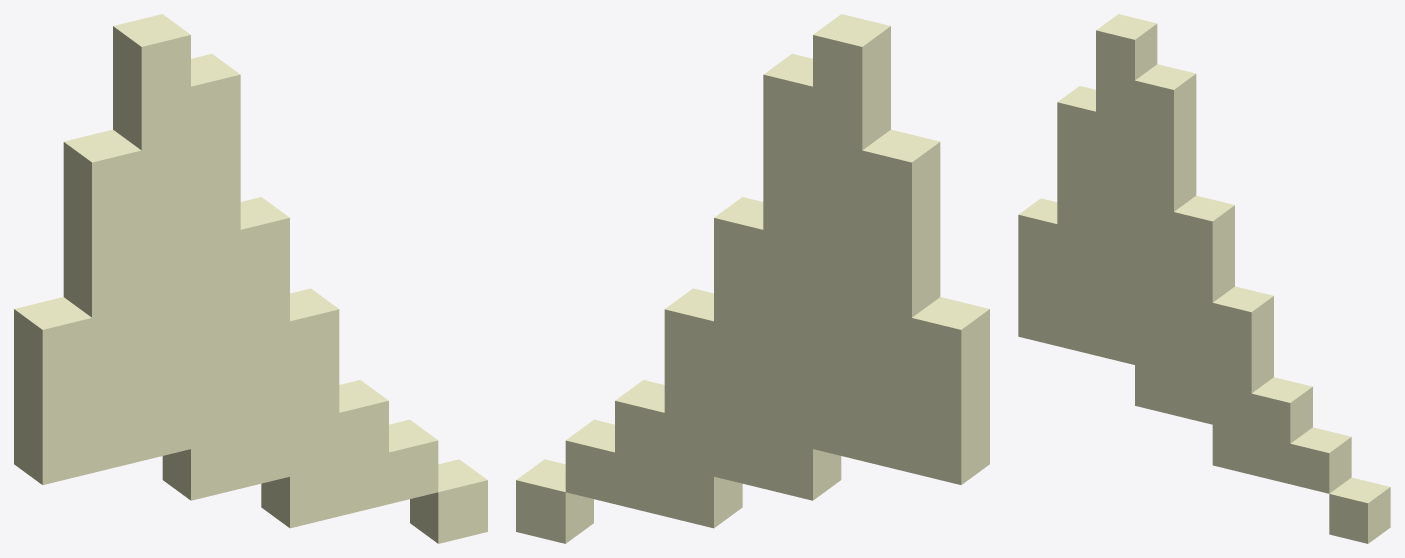
Rendered from Fight_003_2_13_fx.obj.
3 renders of one model, left to right at view 1: azimuth 30°, elevation 25°; view 2: azimuth 150°, elevation 25°; view 3: azimuth 330°, elevation 25°, orthographic. The views are drawn at different scales.
Bounding box in the file's own units: 0.9 × 1.1 × 0.1.
Materials: 1 (1 with a texture image).
